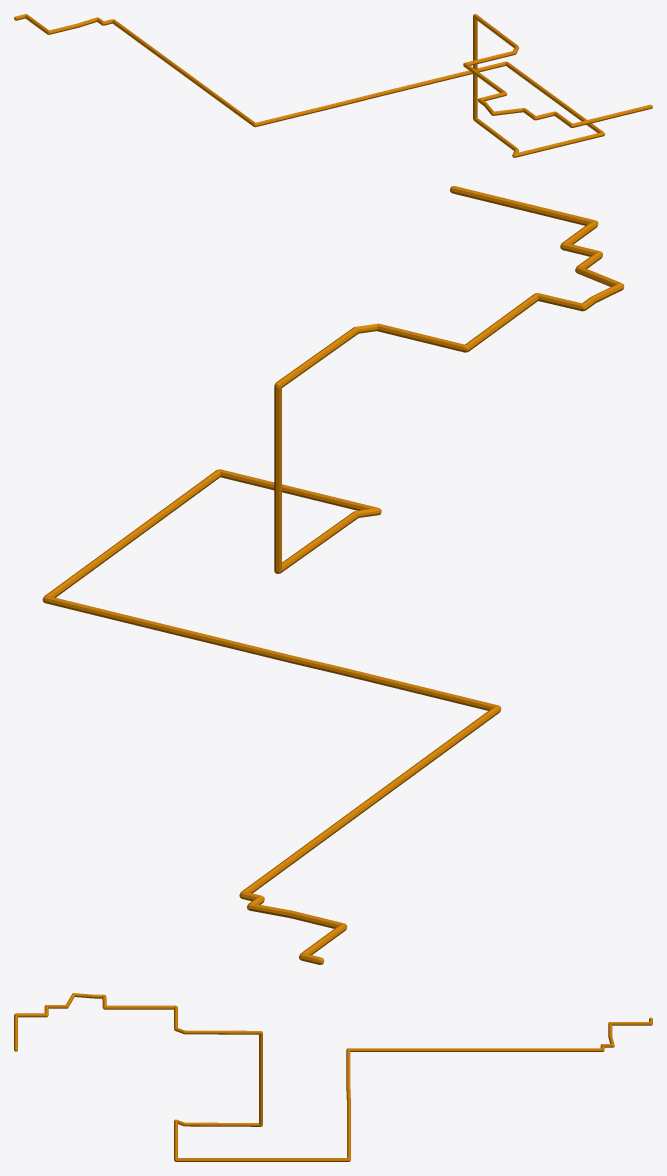
The picture shows the model from 3 angles, top to bottom: view 1: azimuth 30°, elevation 25°; view 2: azimuth 150°, elevation 25°; view 3: azimuth 270°, elevation 25°; orthographic projection. The views are drawn at different scales.
Size of the model in its own units: 1655 by 520 by 3142.
